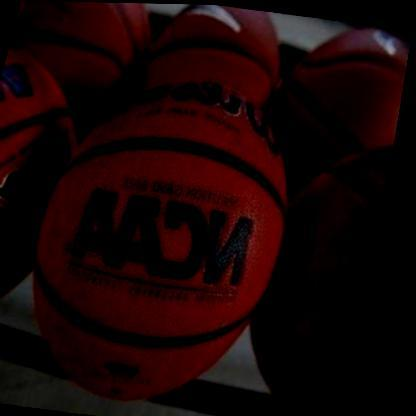basketball: (1, 61, 326, 416), (238, 115, 402, 416), (0, 44, 100, 360), (265, 14, 415, 173), (0, 0, 161, 123), (132, 3, 298, 120)
